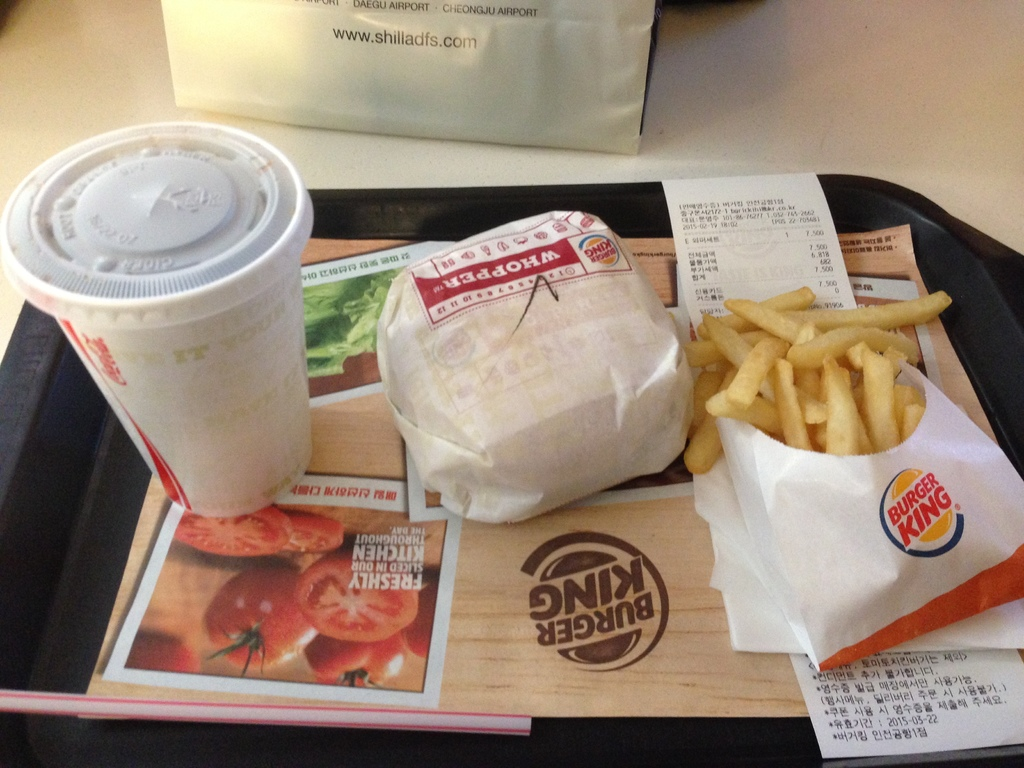French fries: (686, 278, 970, 473)
